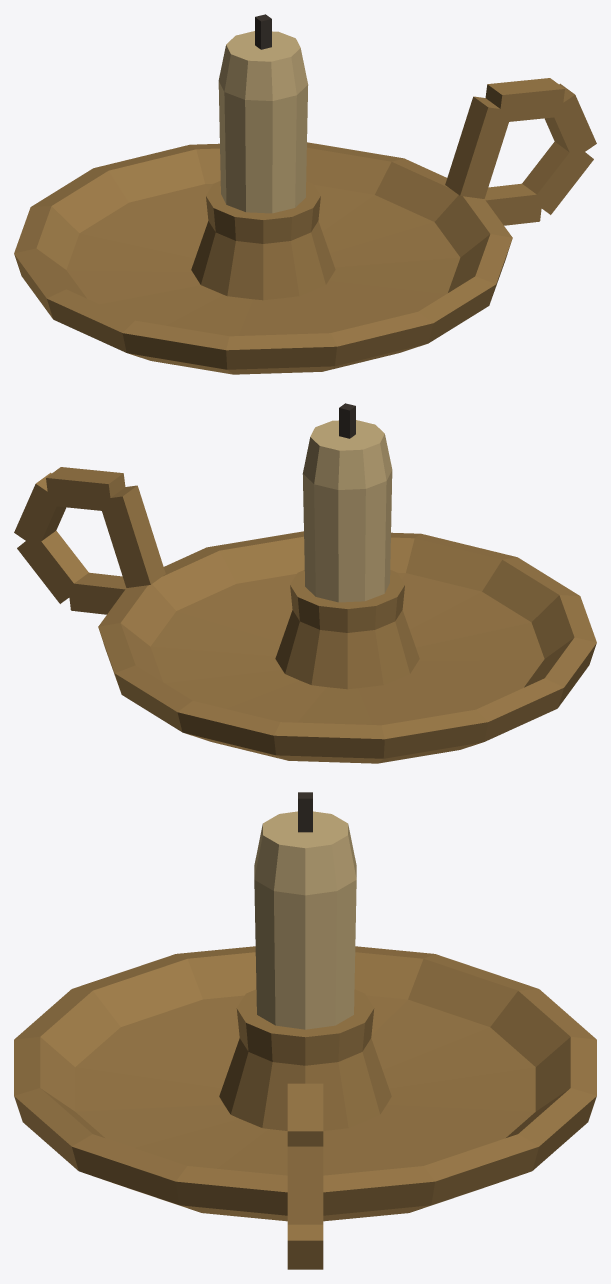
The model's file is black_creek_chamberstick.glb.
3 views of the same model, one above another, from view 1: azimuth 30°, elevation 25°; view 2: azimuth 150°, elevation 25°; view 3: azimuth 270°, elevation 25° (orthographic). The views are drawn at different scales.
Visible parts, largest first — view 1: black_creek_chamberstick; view 2: black_creek_chamberstick; view 3: black_creek_chamberstick.
Part boxes in pixels (box(x1,y1,x2,y2)): black_creek_chamberstick: box(14, 14, 596, 374); black_creek_chamberstick: box(14, 403, 596, 763); black_creek_chamberstick: box(14, 792, 596, 1269).
Bounding box in the file's own units: 0.2505 × 0.1265 × 0.195.
